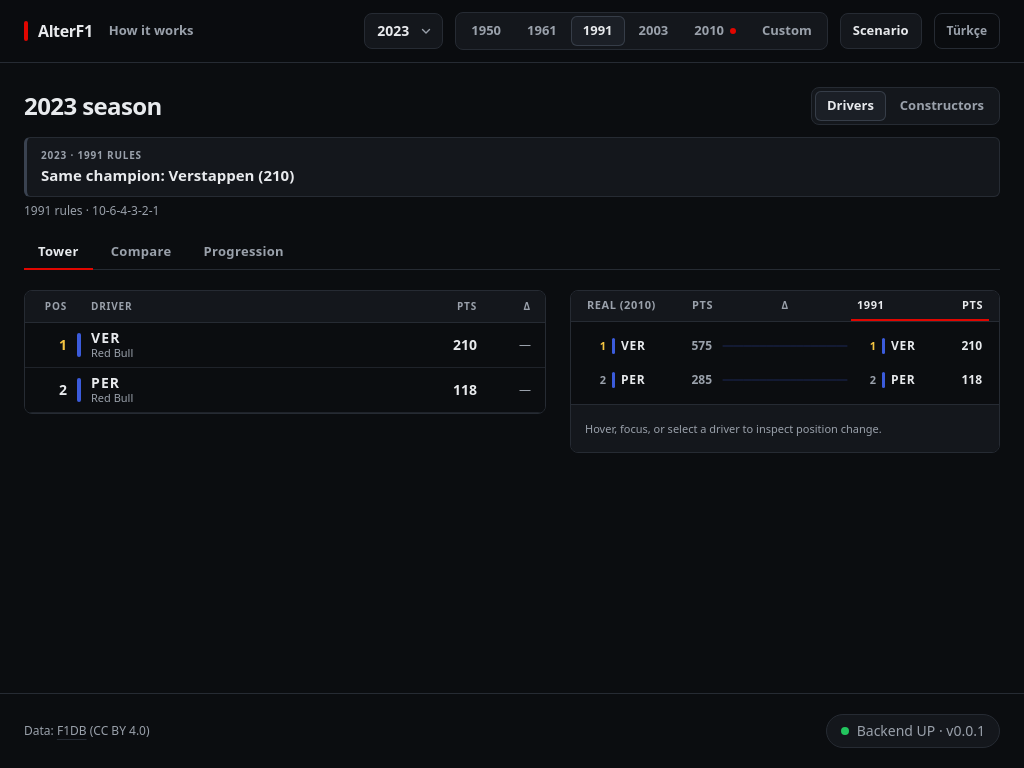
Test: SeasonPage › maps 400 problem field errors inline while keeping previous standings, and hides stale standings on 500
The width and height of the screenshot is (1024, 768).
Expected: the text "Same champion: Verstappen (210)" is shown, [41,165,294,185]
Click the button "Scenario". click: (881, 31)
box: [840,13,922,49]
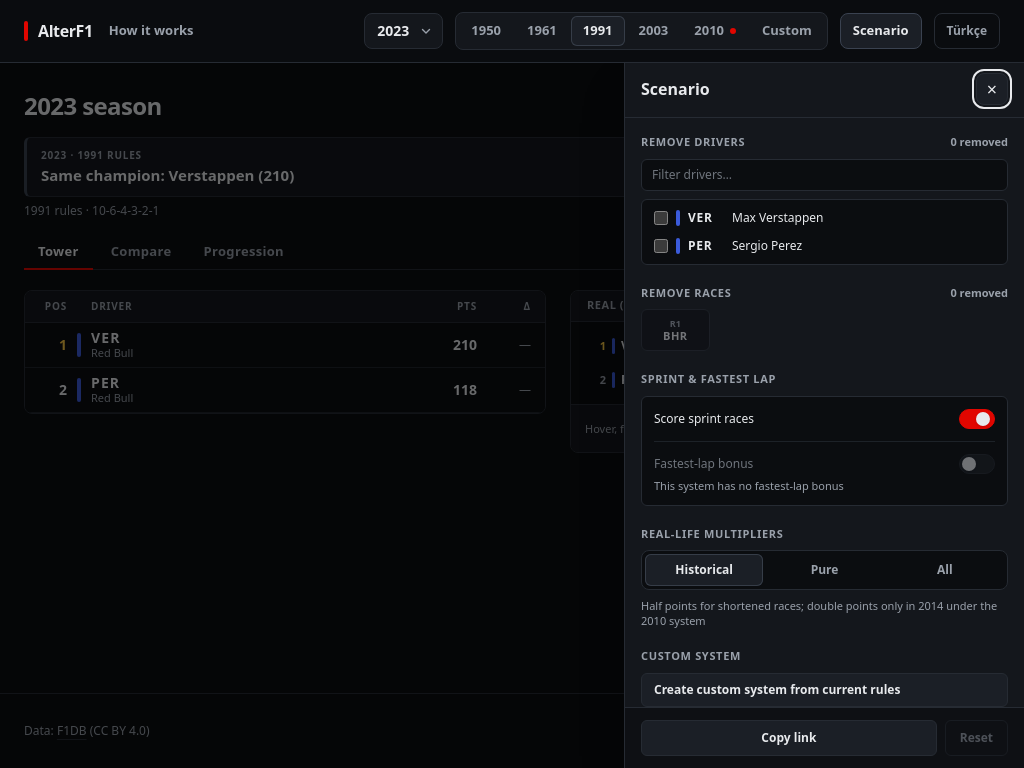
Click the checkbox labelled "VER Max Verstappen". click: (661, 218)
box: [654,210,668,224]
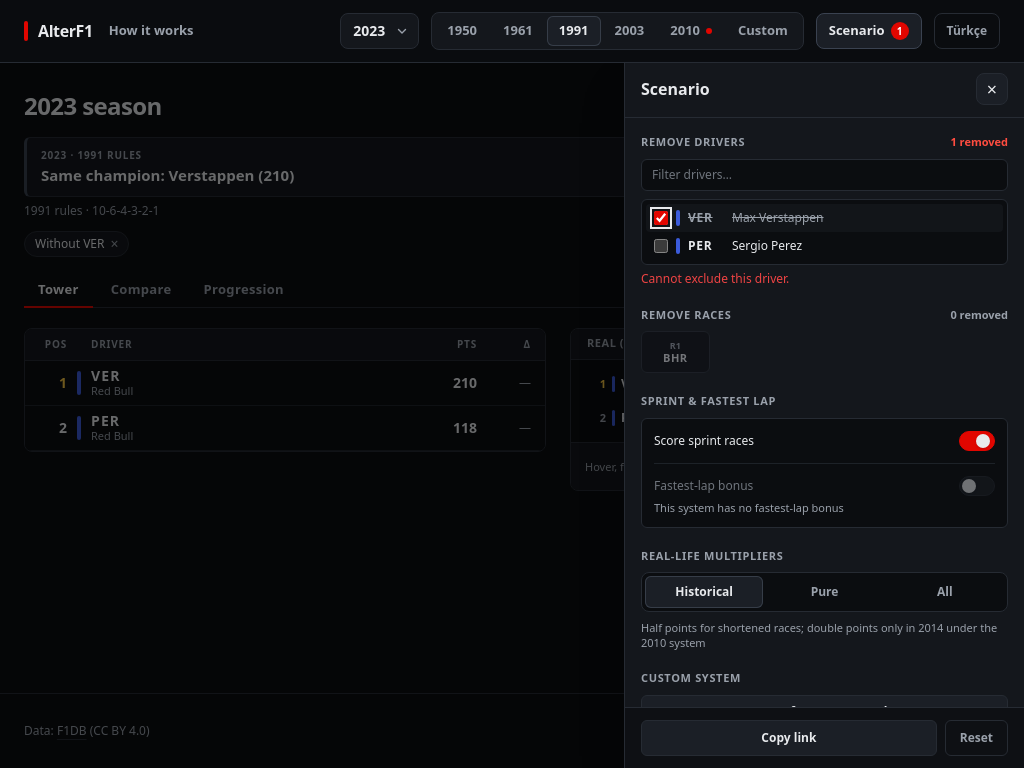
Expected: the text "Same champion: Verstappen (210)" is shown, [41,165,294,185]
Result: the text "Cannot exclude this driver." is shown at [641,270,789,286]
400 without field renders in the general alert banner at the top of the panel body.
Click the button "Pure". click: (824, 592)
box: [765,576,884,608]
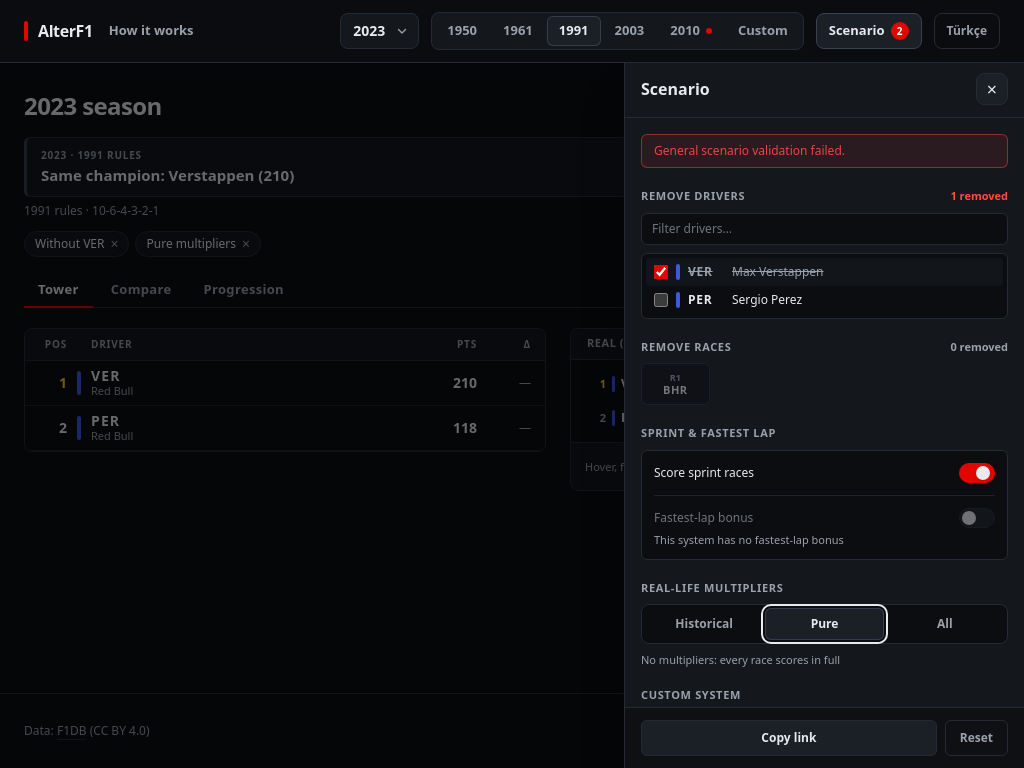
Expected: the text "Same champion: Verstappen (210)" is shown, [41,165,294,185]
Result: the text "General scenario validation failed." is shown at [641,134,1008,168]
500 error hides stale standings and shows only the error state.
Click the button "All". click: (945, 624)
box: [886,608,1004,640]
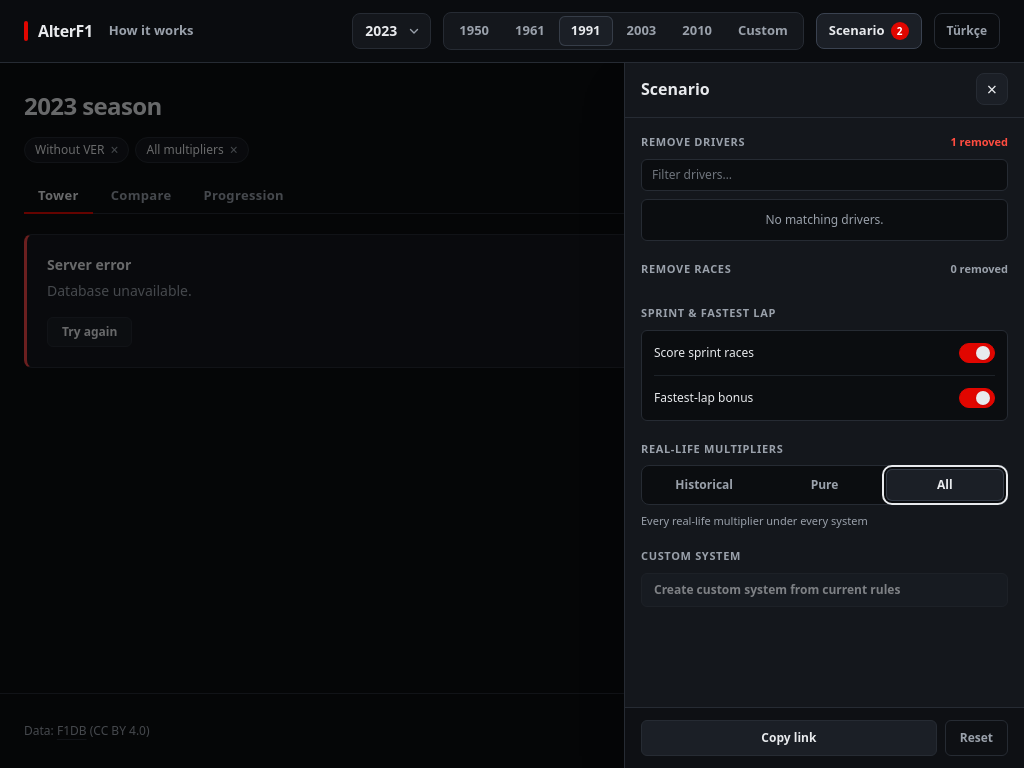
Result: the text "Database unavailable." is shown at [47,281,192,300]
Result: the text "Same champion: Verstappen (210)" is gone
